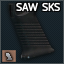SKS TAPCO Intrafuse kit SAW-Style pistol grip: (0, 0, 64, 64)
